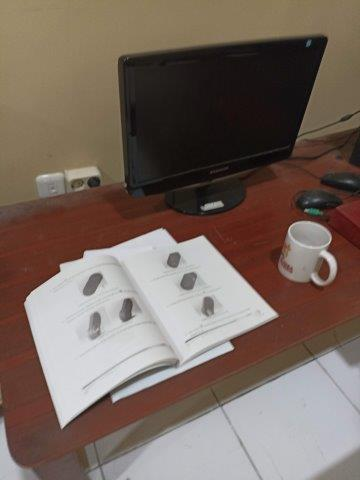kertas: (24, 227, 279, 429)
